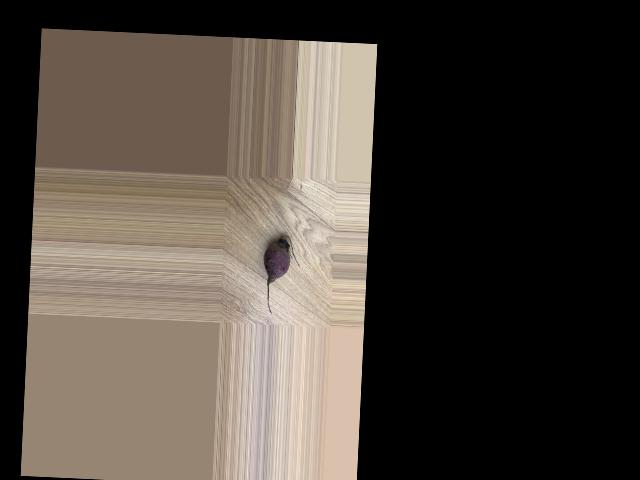beet: (260, 234, 300, 316)
